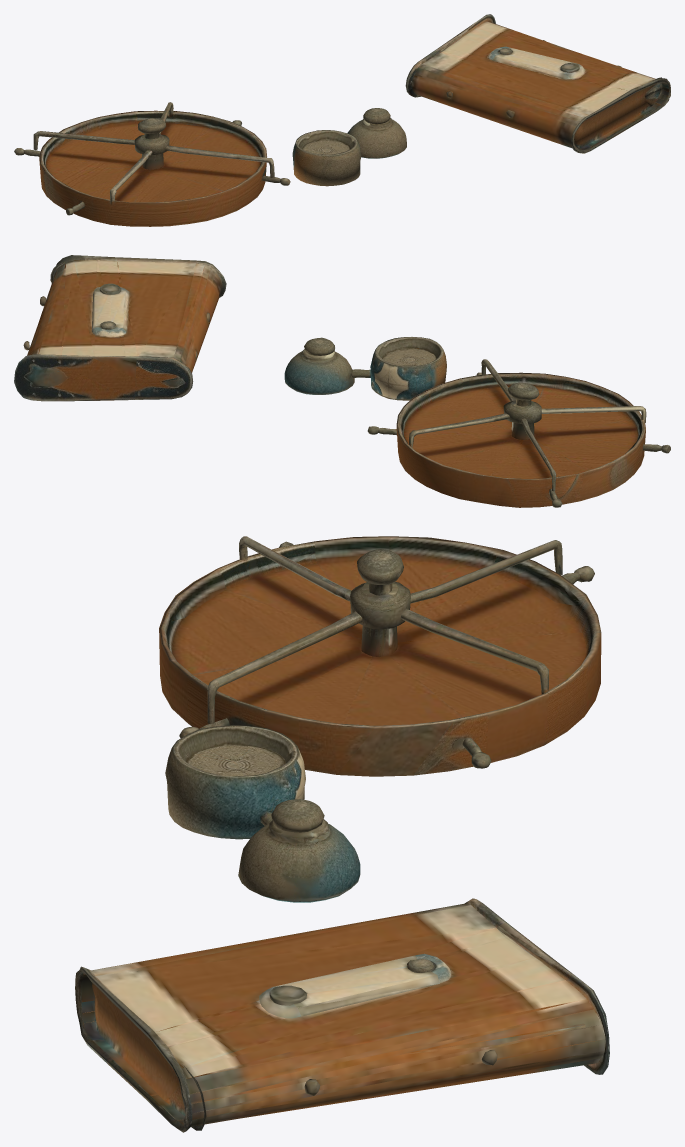
File: chart-table.glb
The picture shows the model from 3 angles, top to bottom: view 1: azimuth 30°, elevation 25°; view 2: azimuth 150°, elevation 25°; view 3: azimuth 270°, elevation 25°; orthographic projection. The views are drawn at different scales.
Visible parts, largest first — view 1: chart-table_LOD0; view 2: chart-table_LOD0; view 3: chart-table_LOD0.
Part boxes in pixels (left/top/right/bottom): chart-table_LOD0: left=14, top=14, right=670, bottom=226; chart-table_LOD0: left=14, top=255, right=670, bottom=507; chart-table_LOD0: left=75, top=536, right=609, bottom=1132.
Size of what is drawn, in the model's own units: 1 by 0.1153 by 0.4009.
Materials: 1 (1 with a texture image).
